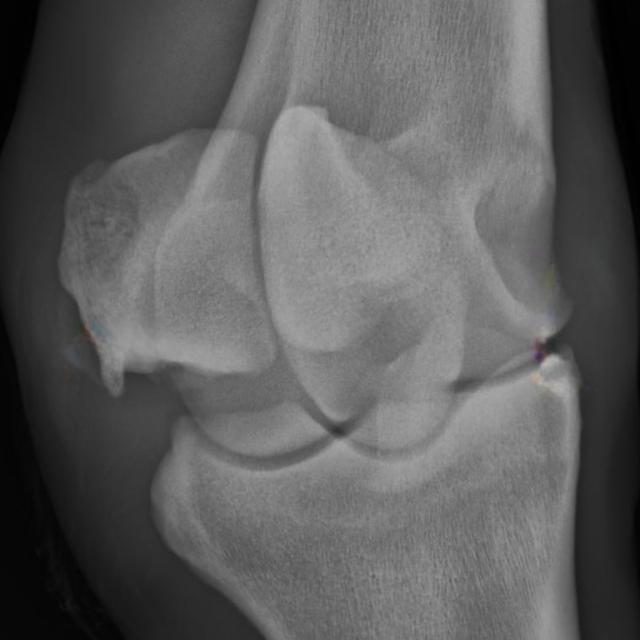bone remodeling: (502, 123, 640, 468), (40, 251, 207, 420)
